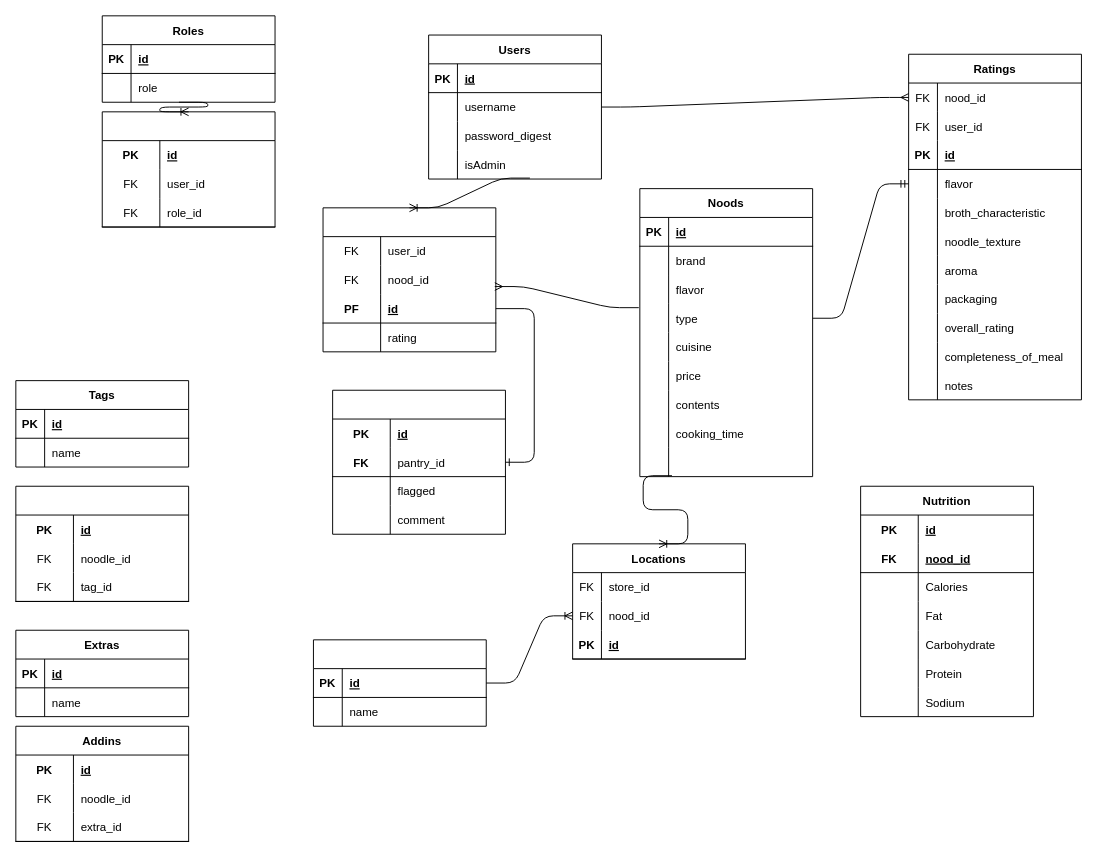
Some shapes in this 1097 by 857 pixel diagram are drawn without their labels. The box of each missing label's shape, as (x1, y1, x2, y2) in pixels:
Comments: (332, 389, 505, 534)
Noodle_tags: (15, 485, 189, 601)
Pantries: (322, 207, 496, 352)
Stores: (312, 639, 486, 726)
User-roles: (101, 111, 275, 227)
